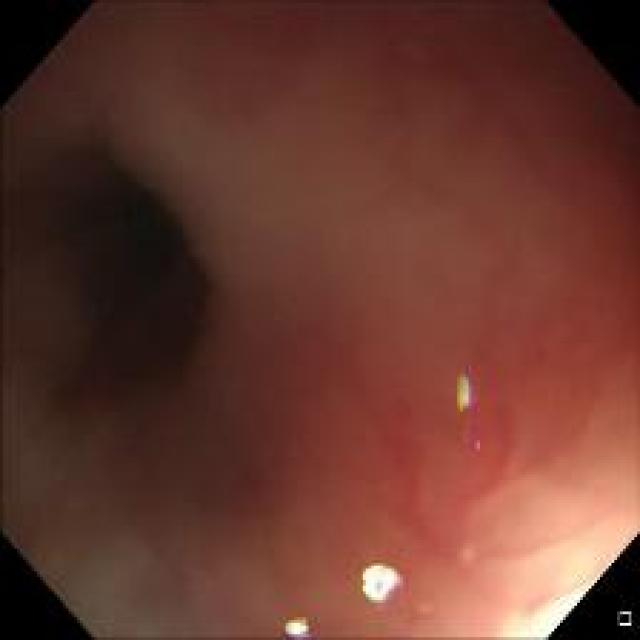color misalignment: (360, 556, 402, 606), (460, 411, 484, 454), (456, 372, 478, 409), (278, 615, 311, 638)
contrast: (32, 131, 222, 431)
saturation: (524, 590, 585, 635)
specularity: (364, 558, 401, 602), (455, 372, 478, 410), (278, 614, 312, 639)
